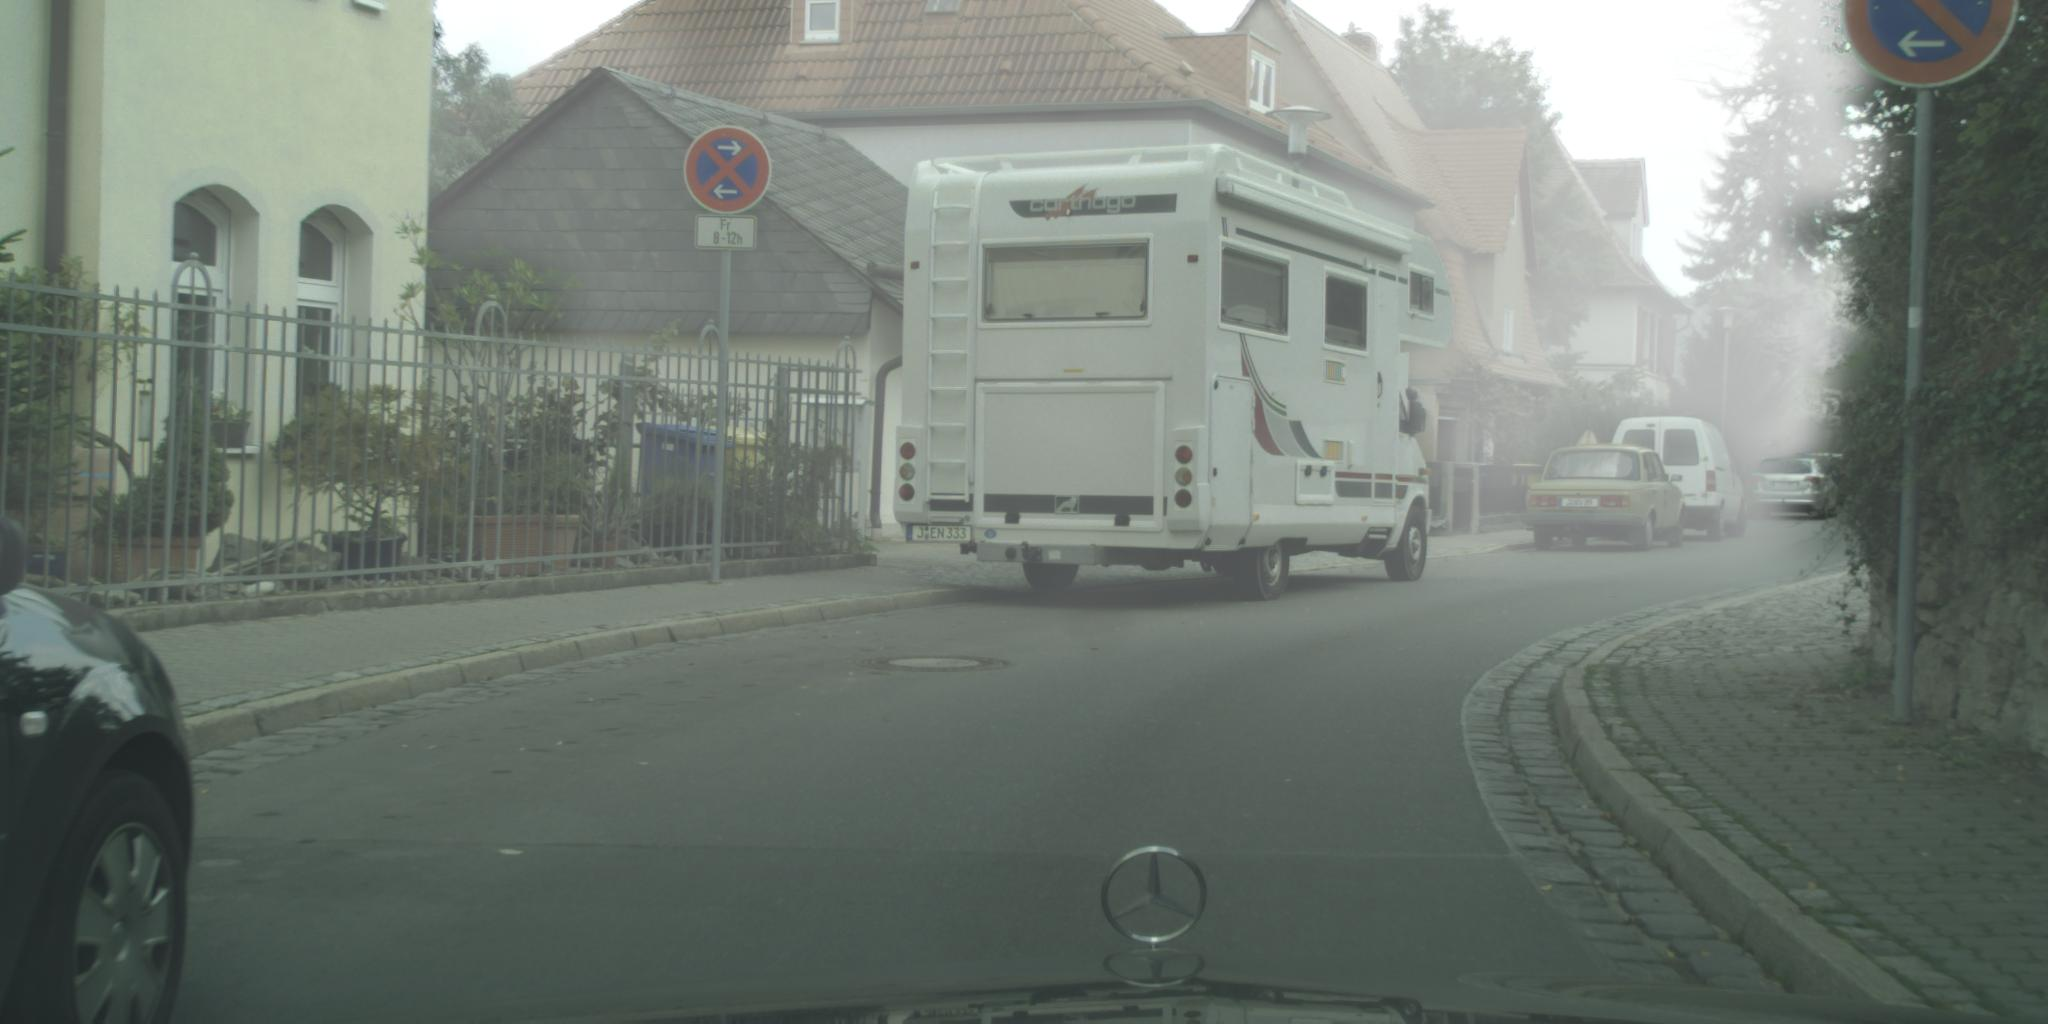car: (1, 505, 199, 1024), (1607, 415, 1749, 545), (1526, 444, 1688, 552), (1746, 458, 1846, 522), (1792, 453, 1851, 505)
